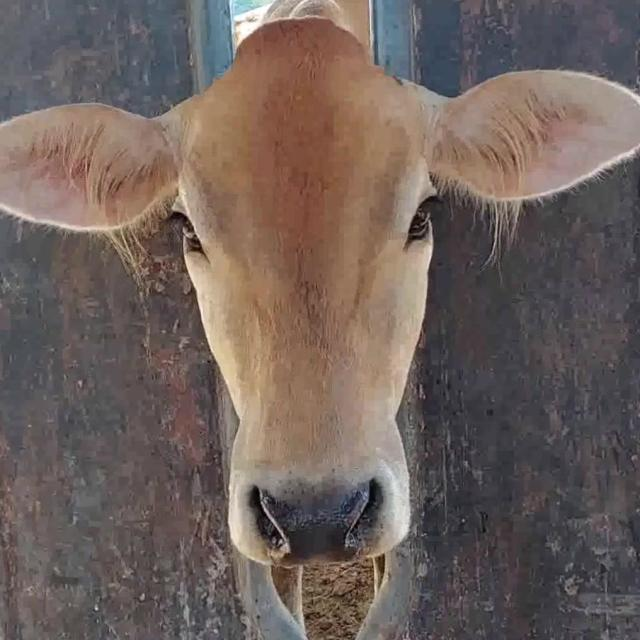cowFace: (174, 20, 436, 570)
